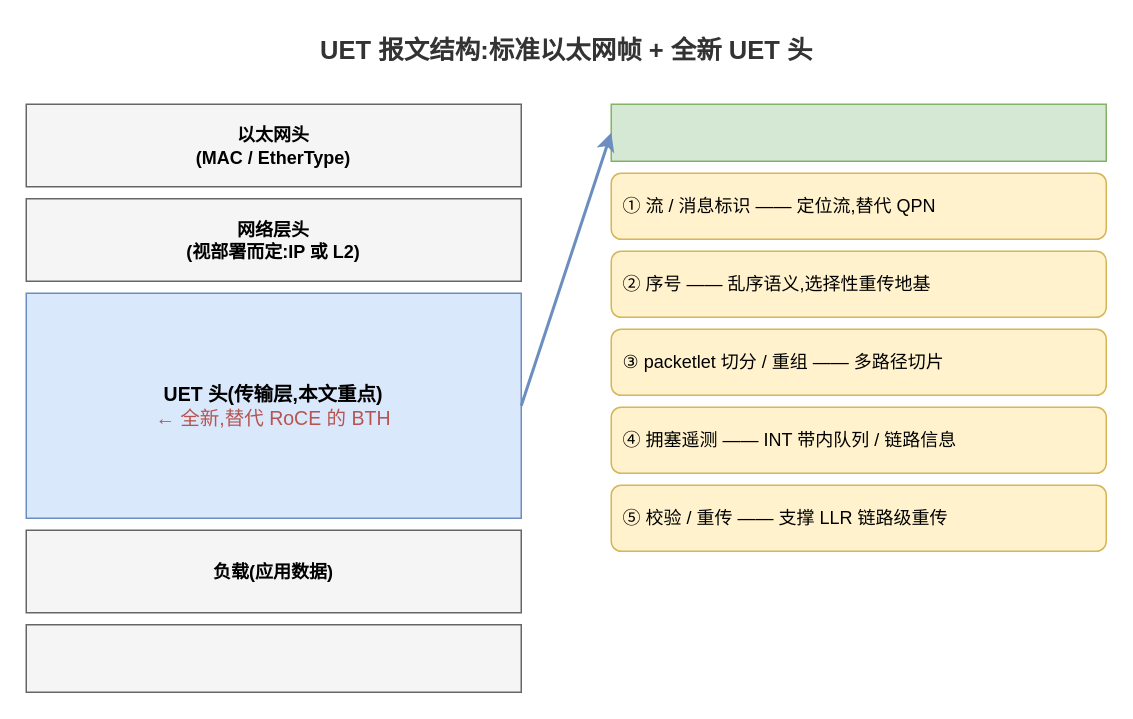
The diagram is 1133 pixels wide and 719 high, and some of its shapes have lost their labels. Here are the shapes that lost their labels. From the top down, the box of each, then its label:
(610, 103, 1106, 161): UET 头要承载的 5 类信息
(25, 623, 521, 692): FCS(帧校验)
